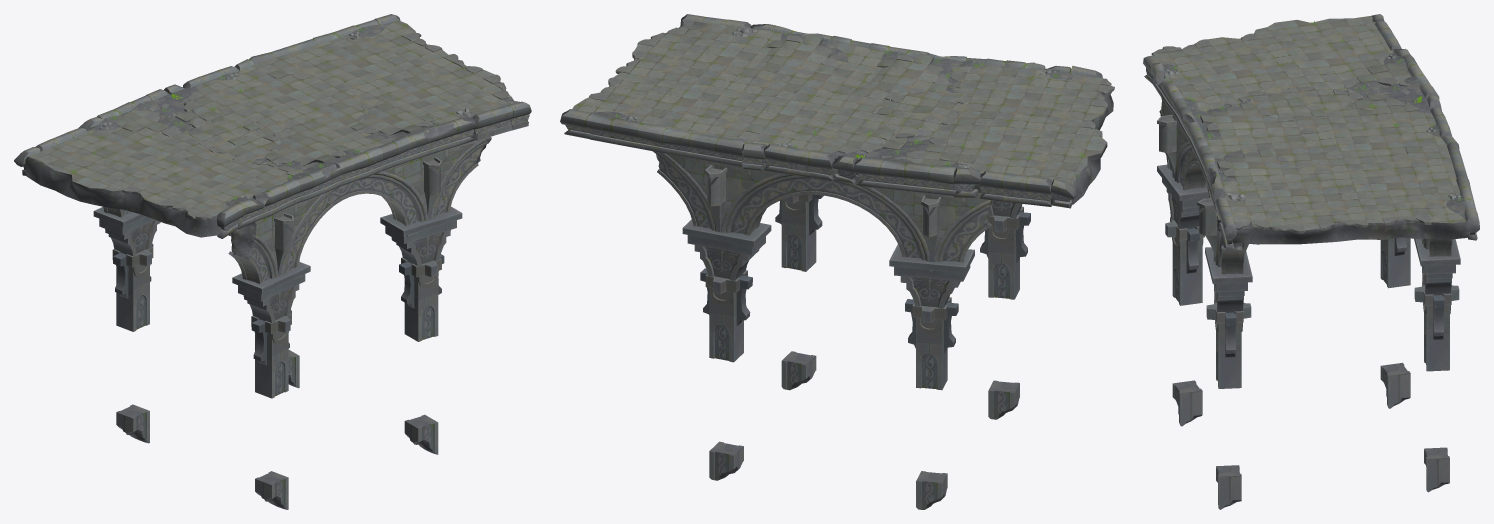
Rendered from SkillObj_Monster_Dvalin_Platform_05.fbx.
The picture shows the model from 3 angles, left to right: view 1: azimuth 30°, elevation 25°; view 2: azimuth 150°, elevation 25°; view 3: azimuth 270°, elevation 25°; orthographic projection. The views are drawn at different scales.
Visible parts, largest first — view 1: Area_MdBuild_SdBridge13_Lod0.001, Area_MdBuild_SdArch06_04_Lod0, Area_MdProps_SdPillar02_02_Lod0.001, Area_MdProps_SdPillar02_02_Lod0.002, Area_MdProps_SdPillar02_02_Lod0, Area_MdBuild_SdRuins07_07_Lod0, Area_MdProps_SdPillar02_03_Lod0.001, Area_MdBuild_SdArch06_01_Lod0, Area_MdProps_SdPillar02_03_Lod0, Area_MdBuild_SdArch06_02_Lod0, Area_MdBuild_SdWall01_08_Lod0, Area_MdBuild_SdWall01_08_Lod0.001 (+8 smaller); view 2: Area_MdBuild_SdBridge13_Lod0.001, Area_MdBuild_SdArch06_04_Lod0.001, Area_MdProps_SdPillar02_02_Lod0.003, Area_MdProps_SdPillar02_02_Lod0.002, Area_MdProps_SdPillar02_02_Lod0, Area_MdBuild_SdRuins07_07_Lod0, Area_MdProps_SdPillar02_03_Lod0.003, Area_MdBuild_SdArch06_01_Lod0.001, Area_MdProps_SdPillar02_03_Lod0.002, Area_MdBuild_SdWall01_08_Lod0, Area_MdProps_SdPillar02_02_Lod0.001, Area_MdBuild_SdWall01_08_Lod0.001 (+9 smaller); view 3: Area_MdBuild_SdBridge13_Lod0.001, Area_MdBuild_SdRuins07_07_Lod0, Area_MdProps_SdPillar02_02_Lod0, Area_MdBuild_SdWall01_08_Lod0, Area_MdProps_SdPillar02_02_Lod0.003, Area_MdProps_SdPillar02_02_Lod0.001, Area_MdBuild_SdWall01_08_Lod0.001, Area_MdProps_SdPillar02_03_Lod0.001, Area_MdProps_SdPillar02_03_Lod0, Area_MdProps_SdPillar02_03_Lod0.003, Area_MdProps_SdPillar02_02_Lod0.002, Area_MdBuild_SdArch06_04_Lod0 (+10 smaller).
Boxes of the visible parts, x1=… form: Area_MdBuild_SdBridge13_Lod0.001: x1=14, y1=14, x2=531, y2=238; Area_MdBuild_SdArch06_04_Lod0: x1=279, y1=155, x2=429, y2=279; Area_MdProps_SdPillar02_02_Lod0.001: x1=399, y1=254, x2=444, y2=341; Area_MdProps_SdPillar02_02_Lod0.002: x1=112, y1=243, x2=153, y2=331; Area_MdProps_SdPillar02_02_Lod0: x1=251, y1=310, x2=291, y2=398; Area_MdBuild_SdRuins07_07_Lod0: x1=188, y1=118, x2=285, y2=165; Area_MdProps_SdPillar02_03_Lod0.001: x1=380, y1=206, x2=462, y2=266; Area_MdBuild_SdArch06_01_Lod0: x1=228, y1=212, x2=279, y2=283; Area_MdProps_SdPillar02_03_Lod0: x1=232, y1=261, x2=310, y2=322; Area_MdBuild_SdArch06_02_Lod0: x1=429, y1=128, x2=492, y2=218; Area_MdBuild_SdWall01_08_Lod0: x1=264, y1=119, x2=349, y2=165; Area_MdBuild_SdWall01_08_Lod0.001: x1=350, y1=88, x2=435, y2=135; Area_MdBuild_SdBridge13_Lod0.001: x1=560, y1=14, x2=1113, y2=208; Area_MdBuild_SdArch06_04_Lod0.001: x1=718, y1=163, x2=932, y2=271; Area_MdProps_SdPillar02_02_Lod0.003: x1=700, y1=268, x2=752, y2=362; Area_MdProps_SdPillar02_02_Lod0.002: x1=905, y1=297, x2=958, y2=390; Area_MdProps_SdPillar02_02_Lod0: x1=980, y1=206, x2=1030, y2=299; Area_MdBuild_SdRuins07_07_Lod0: x1=876, y1=79, x2=970, y2=138; Area_MdProps_SdPillar02_03_Lod0.003: x1=682, y1=219, x2=771, y2=280; Area_MdBuild_SdArch06_01_Lod0.001: x1=929, y1=192, x2=992, y2=271; Area_MdProps_SdPillar02_03_Lod0.002: x1=889, y1=244, x2=974, y2=308; Area_MdBuild_SdWall01_08_Lod0: x1=847, y1=53, x2=948, y2=101; Area_MdProps_SdPillar02_02_Lod0.001: x1=775, y1=194, x2=823, y2=271; Area_MdBuild_SdWall01_08_Lod0.001: x1=733, y1=34, x2=837, y2=82; Area_MdBuild_SdBridge13_Lod0.001: x1=1143, y1=14, x2=1479, y2=249; Area_MdBuild_SdRuins07_07_Lod0: x1=1230, y1=86, x2=1363, y2=118; Area_MdProps_SdPillar02_02_Lod0: x1=1165, y1=217, x2=1204, y2=305; Area_MdBuild_SdWall01_08_Lod0: x1=1200, y1=103, x2=1315, y2=138; Area_MdProps_SdPillar02_02_Lod0.003: x1=1414, y1=282, x2=1459, y2=371; Area_MdProps_SdPillar02_02_Lod0.001: x1=1206, y1=300, x2=1251, y2=388; Area_MdBuild_SdWall01_08_Lod0.001: x1=1217, y1=149, x2=1333, y2=184; Area_MdProps_SdPillar02_03_Lod0.001: x1=1205, y1=247, x2=1252, y2=312; Area_MdProps_SdPillar02_03_Lod0: x1=1157, y1=164, x2=1208, y2=228; Area_MdProps_SdPillar02_03_Lod0.003: x1=1414, y1=239, x2=1460, y2=294; Area_MdProps_SdPillar02_02_Lod0.002: x1=1380, y1=237, x2=1410, y2=288; Area_MdBuild_SdArch06_04_Lod0: x1=1174, y1=118, x2=1215, y2=261.
Size of the model in its own units: 43.62 by 31.25 by 28.33.
Materials: 14 (14 with a texture image).
